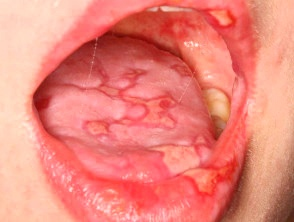SJS-TEN: (13, 0, 289, 222)
